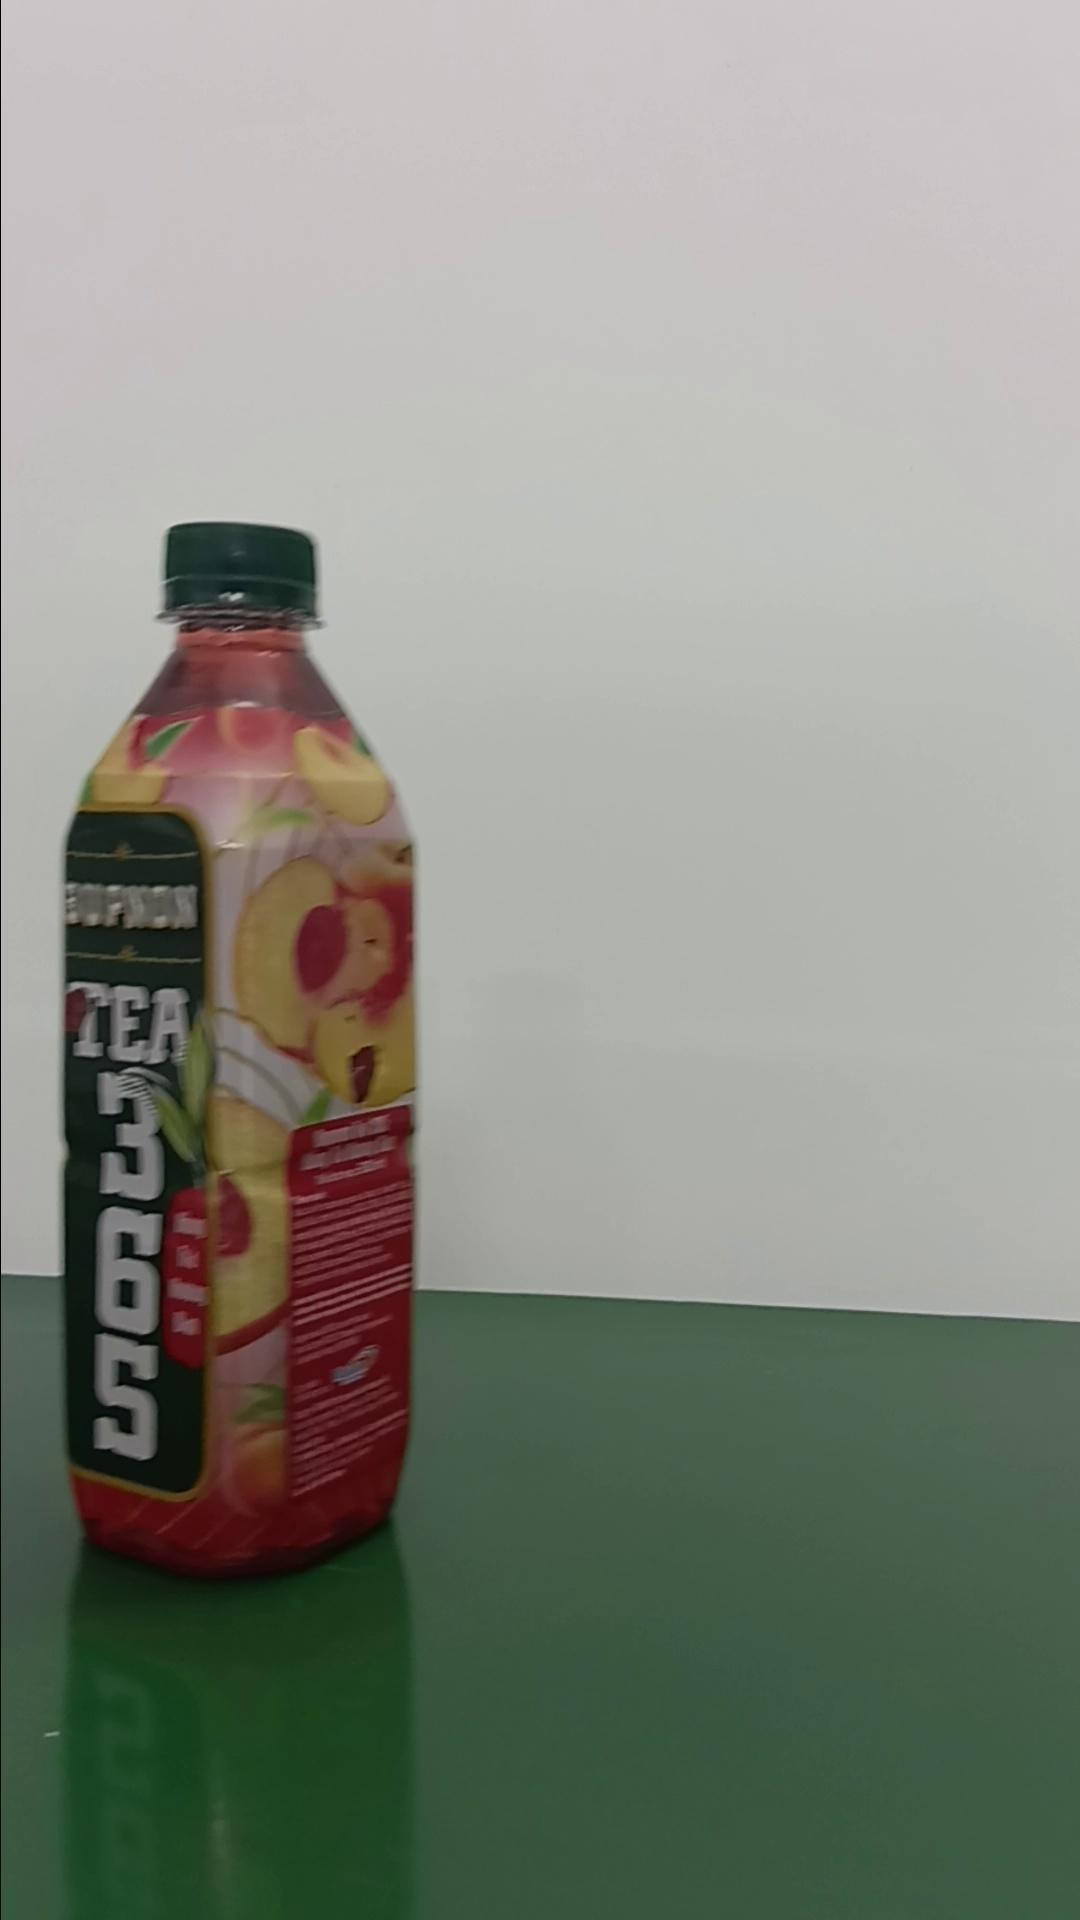loi rach va lap chai: (61, 513, 419, 1589)
